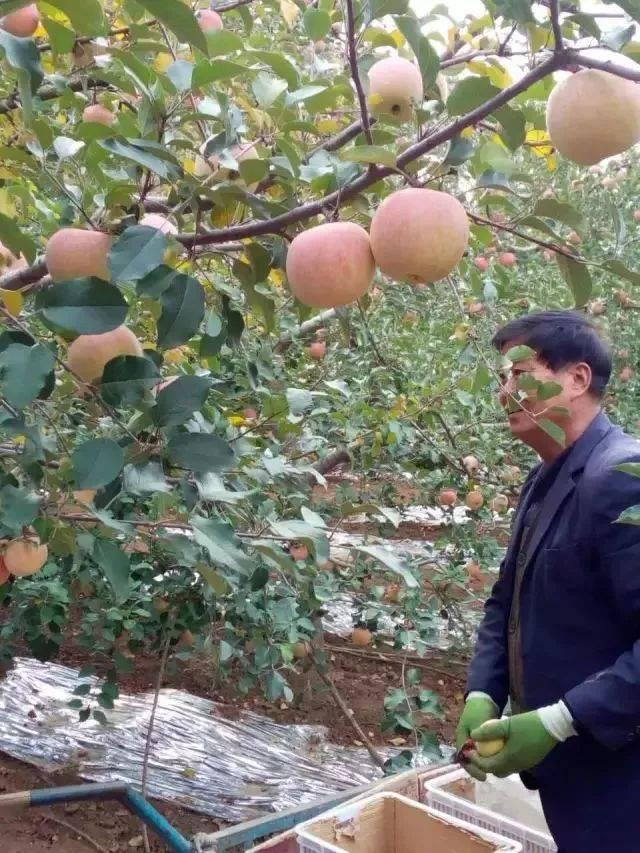apple: (366, 184, 467, 289), (543, 69, 639, 169), (283, 223, 372, 310), (363, 54, 425, 128), (67, 327, 141, 384), (45, 228, 108, 281), (3, 532, 48, 579), (82, 105, 116, 129)
